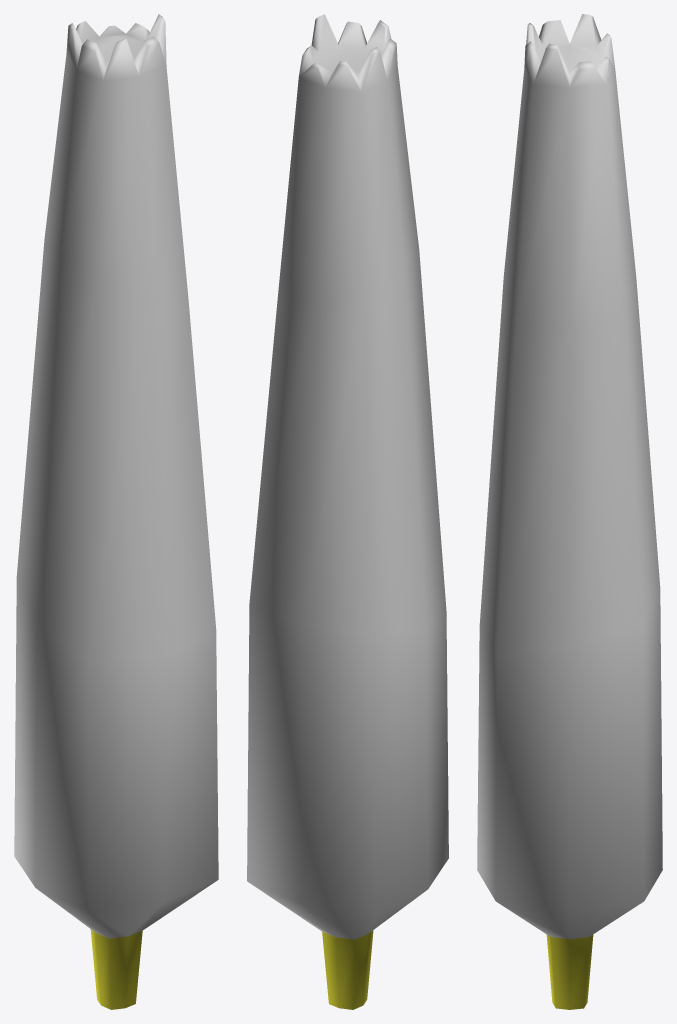
Rendered from Cypress.fbx.
3 views of the same model, side by side, from view 1: azimuth 30°, elevation 25°; view 2: azimuth 150°, elevation 25°; view 3: azimuth 270°, elevation 25° (orthographic).
Visible parts, largest first — view 1: cypress_LOD00; view 2: cypress_LOD00; view 3: cypress_LOD00.
Part boxes in pixels (bbox=[...]): cypress_LOD00: bbox=[14, 14, 218, 1009]; cypress_LOD00: bbox=[247, 14, 448, 1009]; cypress_LOD00: bbox=[477, 14, 662, 1009].
Size of what is drawn, in the model's own units: 2.77 by 16.04 by 2.77.
